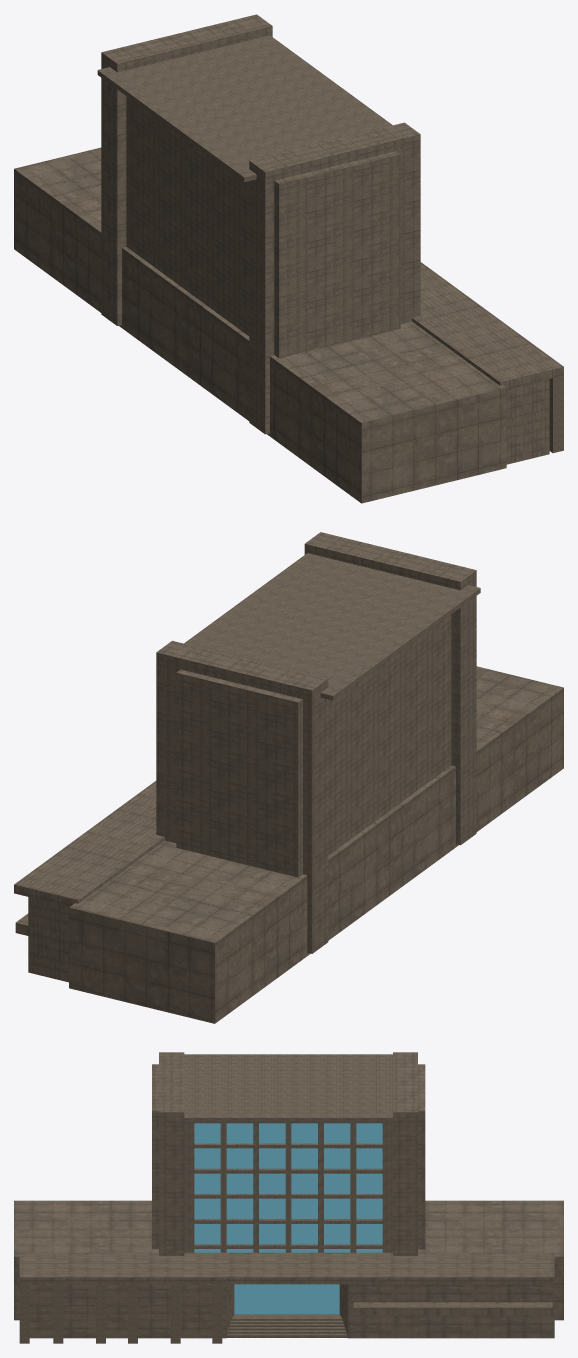
The model's file is library.glb.
3 renders of one model, top to bottom at view 1: azimuth 30°, elevation 25°; view 2: azimuth 150°, elevation 25°; view 3: azimuth 270°, elevation 25°, orthographic. The views are drawn at different scales.
Parts seen in each view (by area): view 1: 立方体.003, 立方体.002, 立方体.004, 平面, 平面.001, 立方体; view 2: 立方体.003, 立方体.002, 立方体.004, 平面, 平面.001; view 3: 立方体.005, 平面.001, 平面, 立方体.002, 立方体.004, 立方体.003, 立方体, 平面.003, 立方体.001.
Part boxes in pixels (box(x1,y1,x2,y2)): 立方体.003: box(101, 14, 420, 434); 立方体.002: box(14, 147, 506, 503); 立方体.004: box(97, 35, 392, 182); 平面: box(412, 262, 563, 389); 平面.001: box(506, 379, 549, 464); 立方体: box(549, 375, 563, 453); 立方体.003: box(156, 532, 476, 953); 立方体.002: box(69, 666, 563, 1023); 立方体.004: box(184, 553, 480, 700); 平面: box(14, 781, 164, 906); 平面.001: box(28, 897, 69, 982); 立方体.005: box(184, 1121, 392, 1252); 平面.001: box(29, 1284, 554, 1338); 平面: box(19, 1252, 554, 1284); 立方体.002: box(14, 1200, 563, 1320); 立方体.004: box(184, 1054, 392, 1121); 立方体.003: box(152, 1052, 425, 1255); 立方体: box(19, 1284, 222, 1343); 平面.003: box(353, 1302, 552, 1315); 立方体.001: box(226, 1314, 347, 1337).
Bounding box in the file's own units: 3.88 × 4.41 × 10.46.
Materials: 2 (1 with a texture image).
